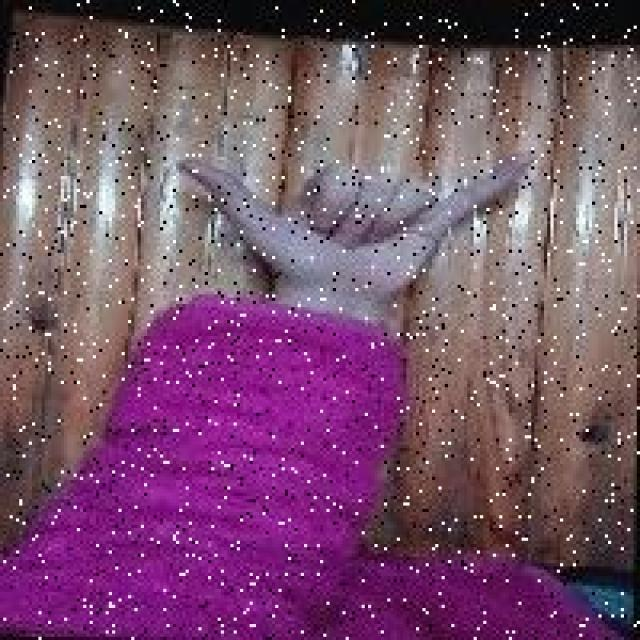Y: (163, 134, 544, 285)
